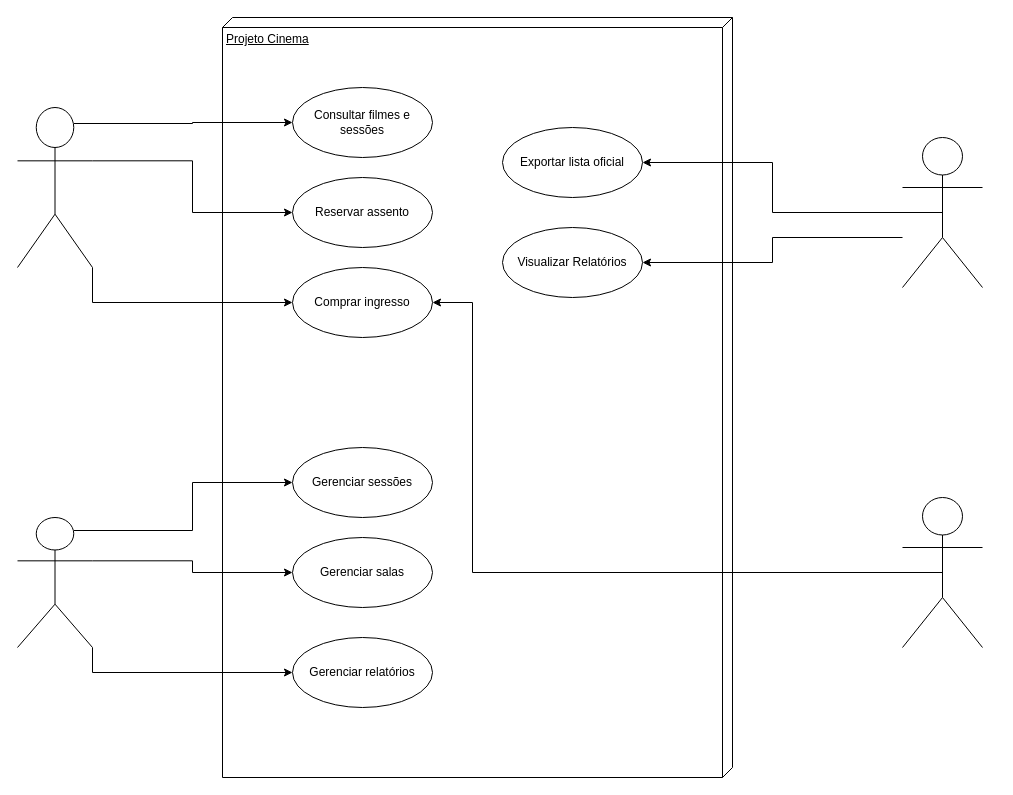
Some shapes in this 1013 by 795 pixel diagram are drawn without their labels. The shapes that lost their labels are listed below. From the top down, each one's centre as x and y in pixels, then its label:
At point (54, 187): "Cliente".
At point (942, 212): "Ancine".
At point (54, 582): "Administrador".
At point (942, 572): "API de Pagamentos".
